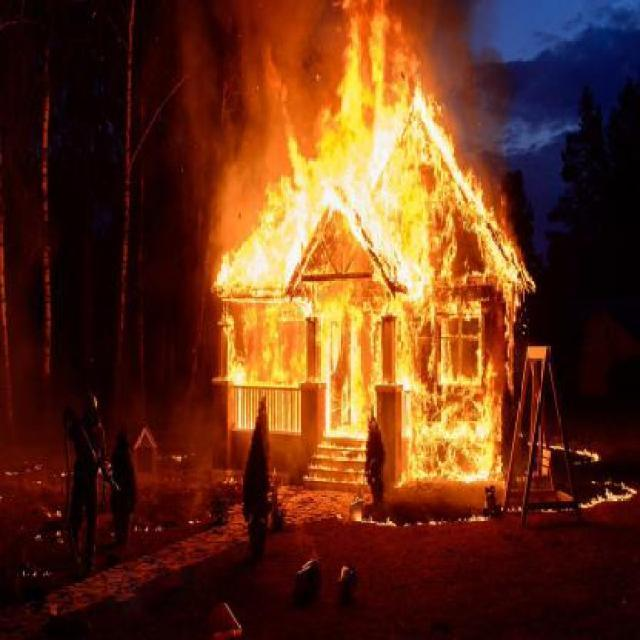Fire: (216, 28, 419, 294), (406, 380, 496, 482)
